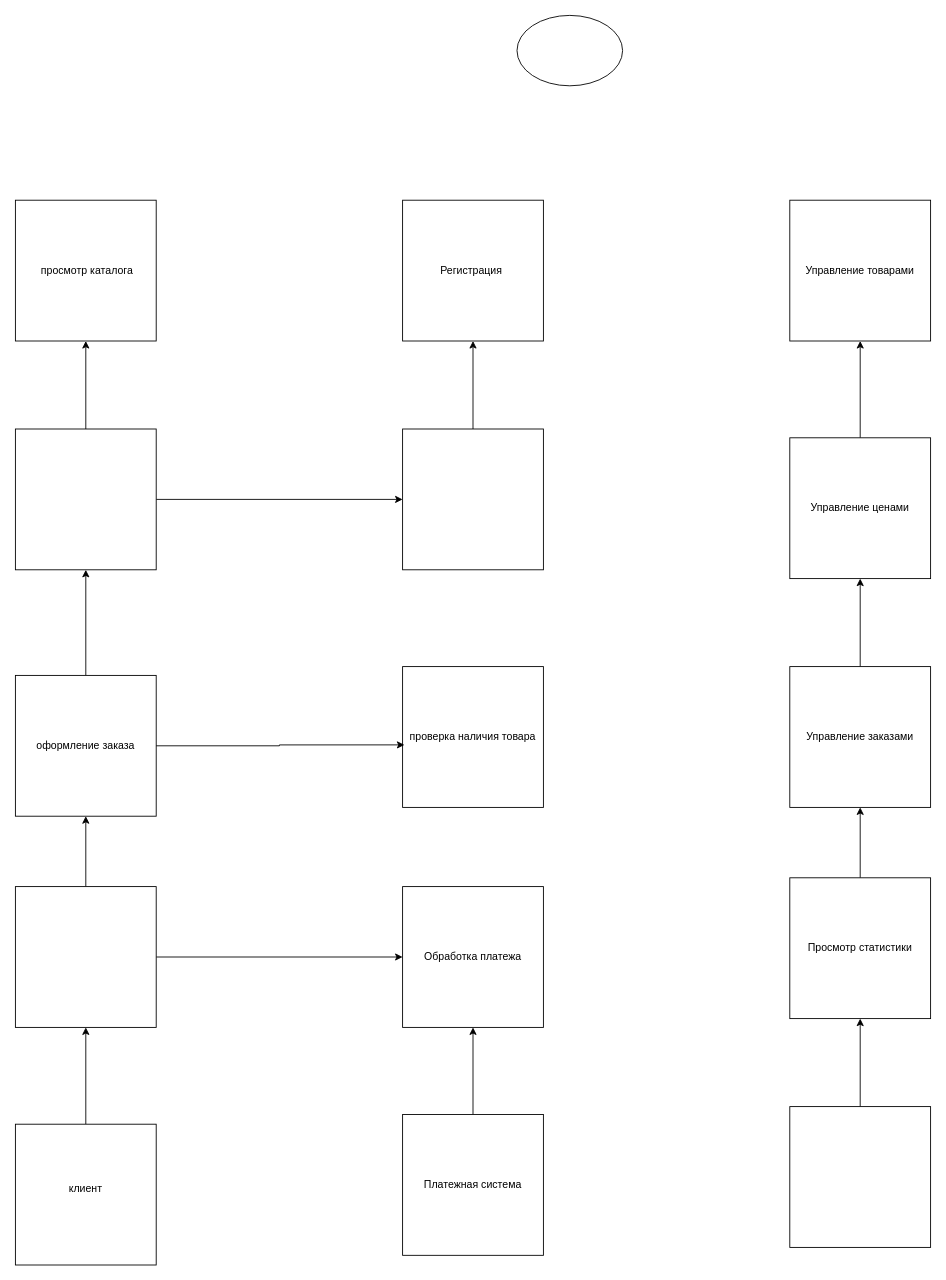
Some shapes in this 946 by 1280 pixel diagram are drawn without their labels. Each missing label, with the centre of its shape:
"админ" goes at pixel 860 1176.
"Онлайн магазин" goes at pixel 569 50.
"оплата заказа" goes at pixel 85 956.
"поиск товаров" goes at pixel 85 499.
"Фильтрация" goes at pixel 472 499.
